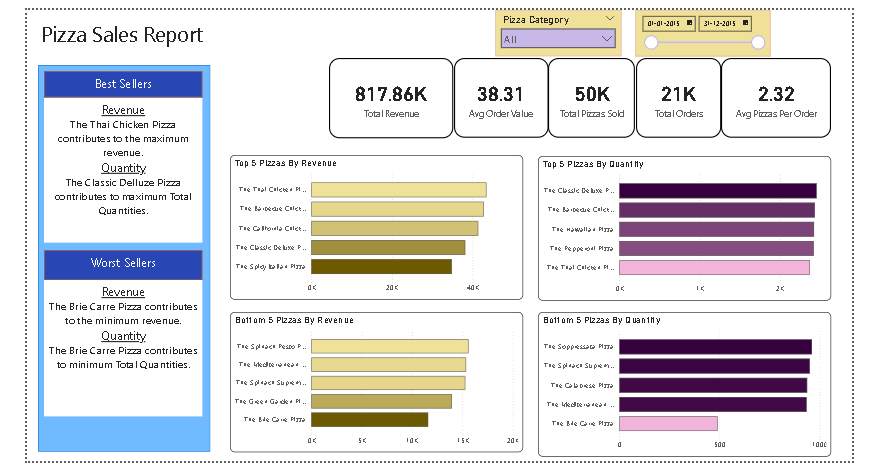

The dashboard page shown, as its layout file describes it:
{"tool":"powerbi","page":{"name":"Best/Worst Sellers","canvas":[1500,820],"ordinal":1},"visuals":[{"type":"card","fields":{"Values":["pizza_sales.Avg Order Value"]},"box":[775.8,86.8,171.8,144.6],"z":0},{"type":"card","fields":{"Values":["pizza_sales.Total Orders"]},"box":[1106.4,88.1,155.4,144.9],"z":1000},{"type":"card","fields":{"Values":["pizza_sales.Total Pizzas Sold"]},"box":[948,88.1,158.3,144.9],"z":2000},{"type":"card","fields":{"Values":["pizza_sales.Total Revenue"]},"box":[549.5,87.8,226,146],"z":3000},{"type":"card","fields":{"Values":["pizza_sales.Avg Pizzas Per Order"]},"box":[1261.7,88.1,200.2,144.9],"z":4000},{"type":"textbox","box":[20,13.3,425,70],"z":5000},{"type":"shape","box":[20,100,313.3,703.3],"z":6000},{"type":"textbox","box":[31.7,111.7,288.3,48.3],"z":7000},{"type":"textbox","box":[31.7,160,288.3,263.3],"z":8000},{"type":"textbox","box":[31.7,436.7,288.3,55],"z":9000},{"type":"textbox","box":[31.7,491.7,288.3,248.3],"z":10000},{"type":"slicer","title":"Pizza Category","fields":{"Values":["pizza_sales.pizza_category"]},"box":[850,0,230,84],"z":11000},{"type":"slicer","title":"Pizza Category","fields":{"Values":["pizza_sales.order_date"]},"box":[1106,0,246,84],"z":12000},{"type":"barChart","title":"Top 5 Pizzas By Revenue","fields":{"Category":["pizza_sales.pizza_name"],"Y":["pizza_sales.Total Revenue"]},"box":[368.3,263.3,533.3,263.3],"z":13000},{"type":"barChart","title":"Bottom 5 Pizzas By Revenue","fields":{"Category":["pizza_sales.pizza_name"],"Y":["pizza_sales.Total Revenue"]},"box":[368.3,548.3,533.3,255],"z":14000},{"type":"barChart","title":"Top 5 Pizzas By Quantity","fields":{"Category":["pizza_sales.pizza_name"],"Y":["pizza_sales.Total Pizzas Sold"]},"box":[928.3,265,533.3,263.3],"z":15000},{"type":"barChart","title":"Bottom 5 Pizzas By Quantity","fields":{"Category":["pizza_sales.pizza_name"],"Y":["pizza_sales.Total Pizzas Sold"]},"box":[928.3,548.3,533.3,263.3],"z":16000}]}

Visuals, with their boxes in screenshot pixels (x1, y1, x2, y2), scaled from the page's 1500x820 canvas onto the 875x473 screenshot:
card - pizza_sales.Avg Order Value: 453, 50, 553, 133
card - pizza_sales.Total Orders: 645, 51, 736, 134
card - pizza_sales.Total Pizzas Sold: 553, 51, 645, 134
card - pizza_sales.Total Revenue: 321, 51, 452, 135
card - pizza_sales.Avg Pizzas Per Order: 736, 51, 853, 134
textbox: 12, 8, 260, 48
shape: 12, 58, 194, 463
textbox: 18, 64, 187, 92
textbox: 18, 92, 187, 244
textbox: 18, 252, 187, 284
textbox: 18, 284, 187, 427
"Pizza Category" slicer: 496, 0, 630, 48
"Pizza Category" slicer: 645, 0, 789, 48
"Top 5 Pizzas By Revenue" barChart: 215, 152, 526, 304
"Bottom 5 Pizzas By Revenue" barChart: 215, 316, 526, 463
"Top 5 Pizzas By Quantity" barChart: 542, 153, 853, 305
"Bottom 5 Pizzas By Quantity" barChart: 542, 316, 853, 468
